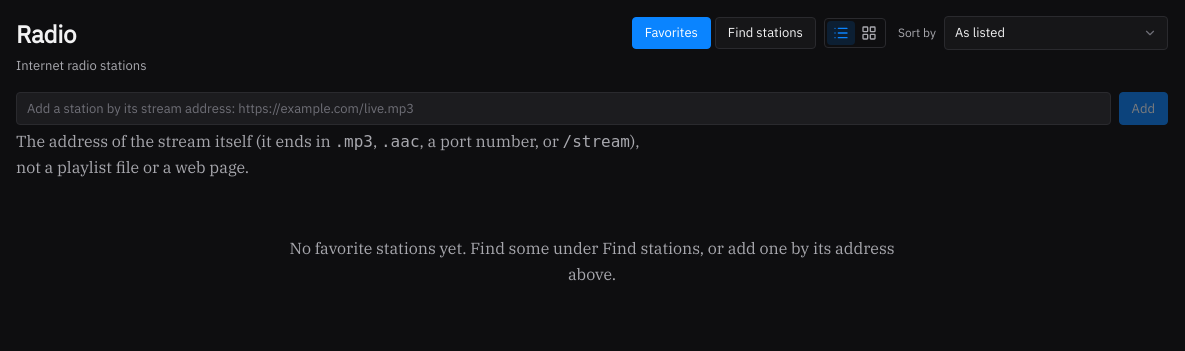
Test: Radio view › says when there are none, and adds one by address or shows why it cannot
The image size is (1185, 351).
Replace the text in the field with test id "station-address" with "http://x/list.pls" at (563, 108), box [16,92,1111,125]
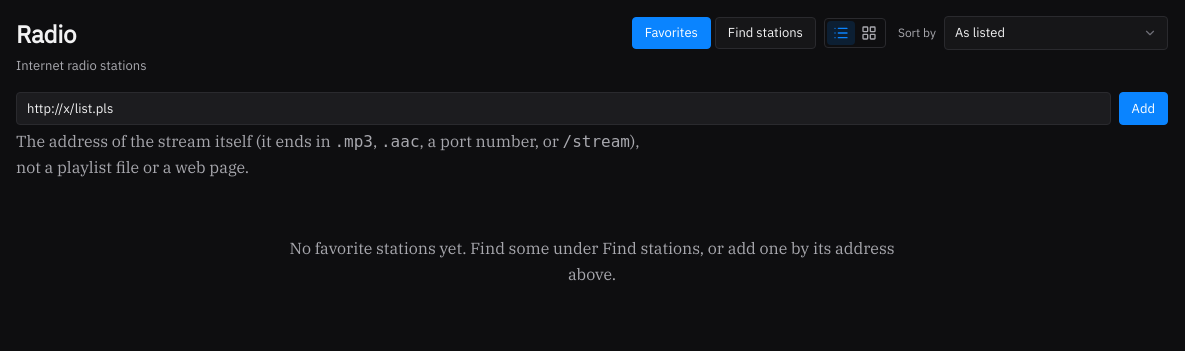
Click the button with test id "add-station" at (1143, 108), box [1119,92,1168,125]
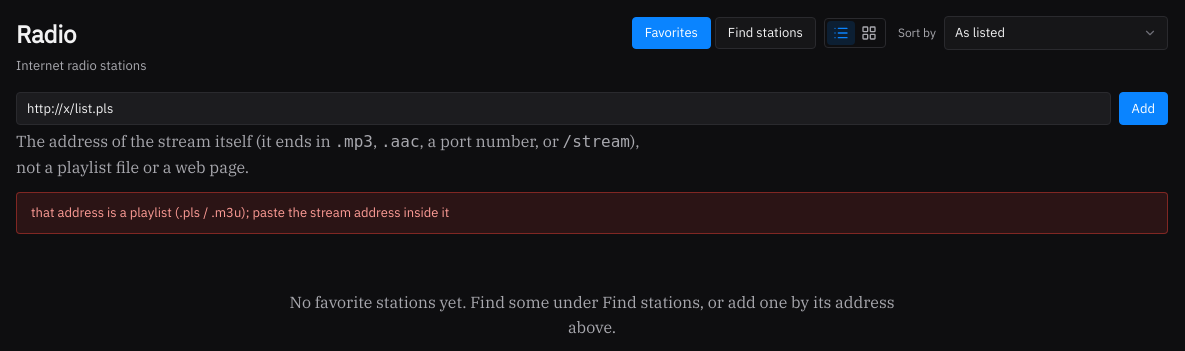
Expected: the text "that address is a playlist" is shown, [31,204,449,221]
Replace the text in the field with test id "station-address" with "http://x/live.mp3" at (563, 108), box [16,92,1111,125]
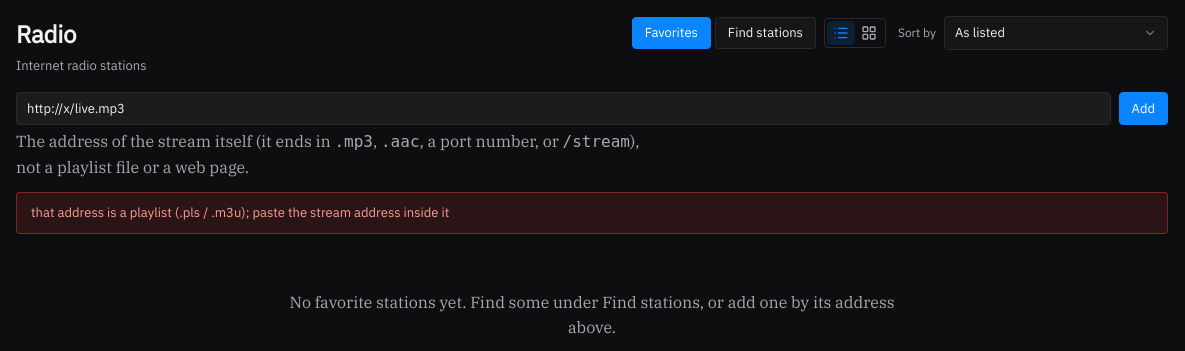
Click the button with test id "add-station" at (1143, 108), box [1119,92,1168,125]
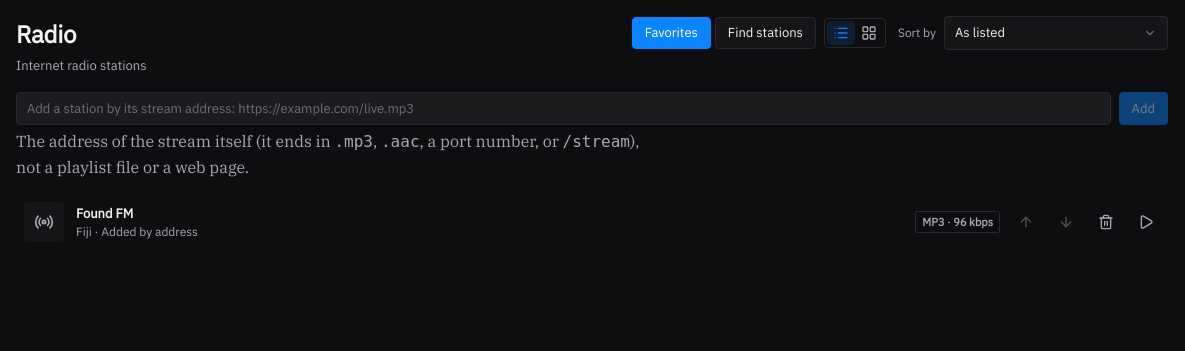
Expected: the text "Found FM" is shown, [76,205,133,222]
